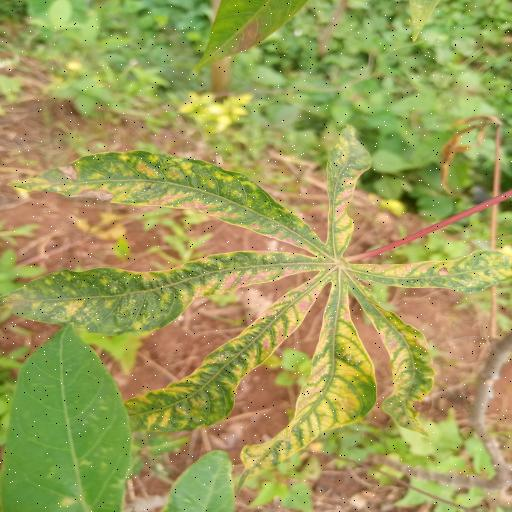Cassava_Mosaic: (8, 133, 512, 471)
